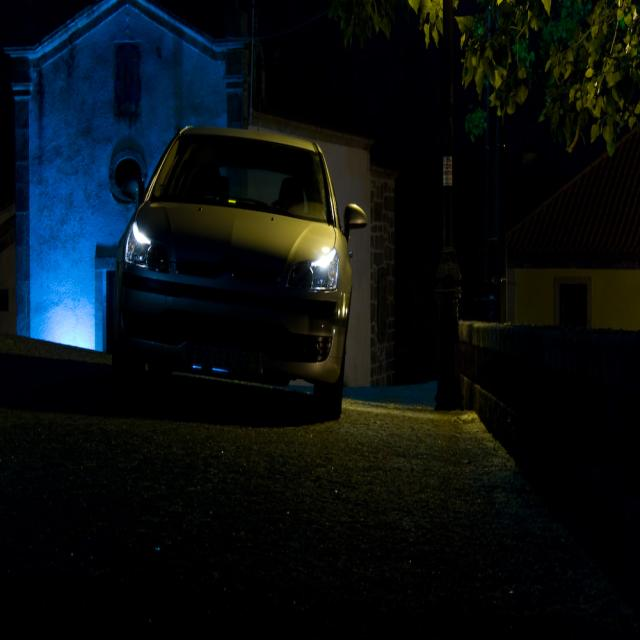Car: (69, 79, 411, 466)
